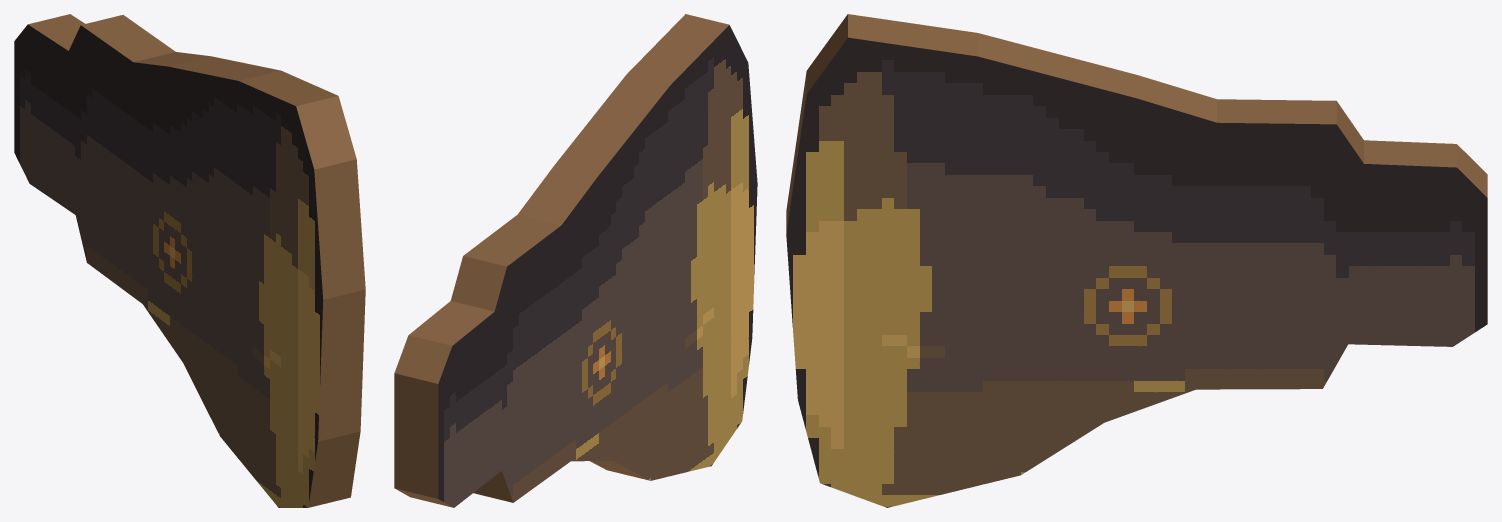
The model's file is axe_head.obj.
3 views of the same model, side by side, from view 1: azimuth 30°, elevation 25°; view 2: azimuth 150°, elevation 25°; view 3: azimuth 270°, elevation 25° (orthographic). The views are drawn at different scales.
Parts seen in each view (by area): view 1: geometry; view 2: geometry; view 3: geometry.
Boxes of the visible parts, <box> form: geometry: <box>14,14,365,507</box>; geometry: <box>394,14,757,507</box>; geometry: <box>786,14,1487,507</box>.
Size of the model in its own units: 0.06 by 0.5588 by 0.755.
